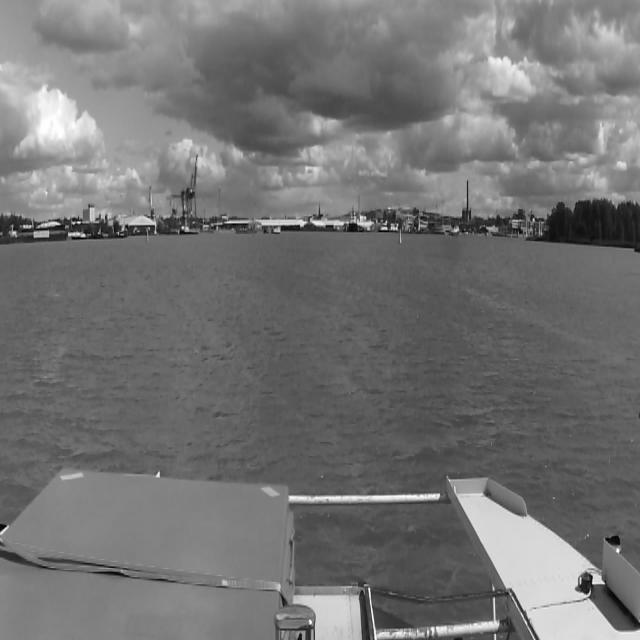buoy: (146, 228, 148, 242), (399, 228, 401, 242)
ship: (348, 206, 358, 233), (448, 225, 460, 236)
